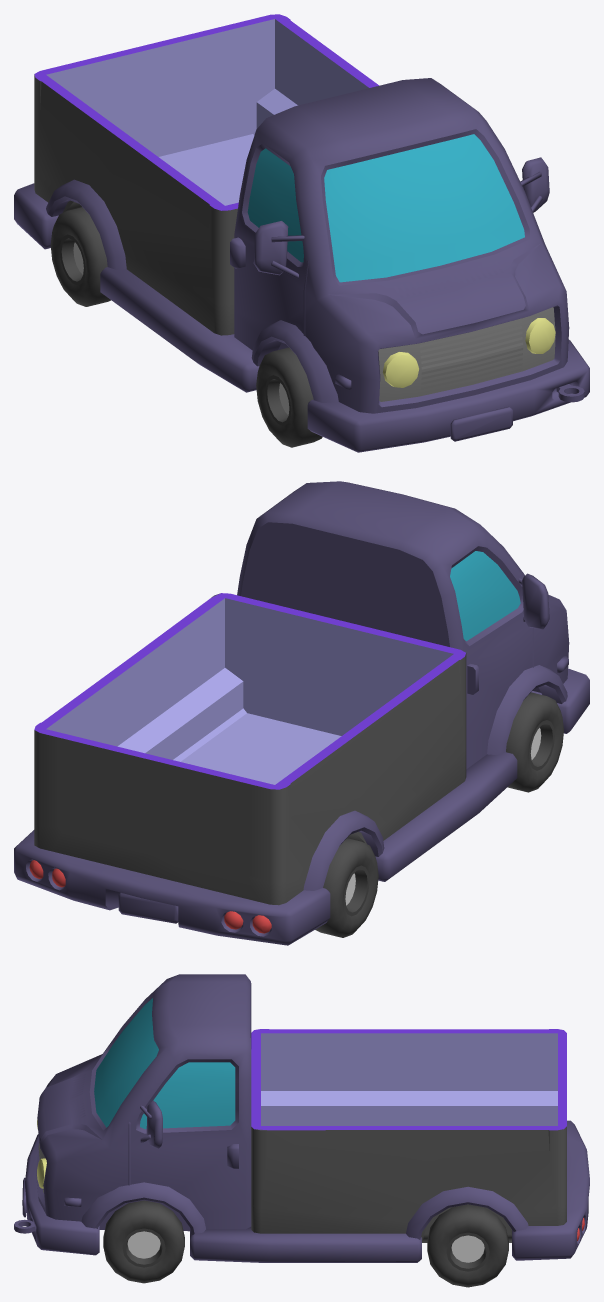
Rendered from pikap.fbx.
3 views of the same model, one above another, from view 1: azimuth 30°, elevation 25°; view 2: azimuth 150°, elevation 25°; view 3: azimuth 270°, elevation 25° (orthographic). The views are drawn at different scales.
Visible parts, largest first — view 1: pikap, kapak, teker2, teker4; view 2: pikap, kapak, teker2, teker4; view 3: pikap, teker1, teker3, kapak.
Boxes of the visible parts, bbox=[...] form: pikap: bbox=[14, 14, 589, 452]; kapak: bbox=[59, 19, 256, 144]; teker2: bbox=[256, 347, 322, 447]; teker4: bbox=[50, 207, 110, 306]; pikap: bbox=[14, 481, 589, 945]; kapak: bbox=[59, 733, 256, 877]; teker2: bbox=[506, 692, 563, 792]; teker4: bbox=[315, 838, 378, 937]; pikap: bbox=[14, 974, 589, 1262]; teker1: bbox=[103, 1200, 184, 1283]; teker3: bbox=[427, 1204, 508, 1287]; kapak: bbox=[558, 1040, 566, 1118].
Size of the model in its own units: 296 by 265 by 608.
